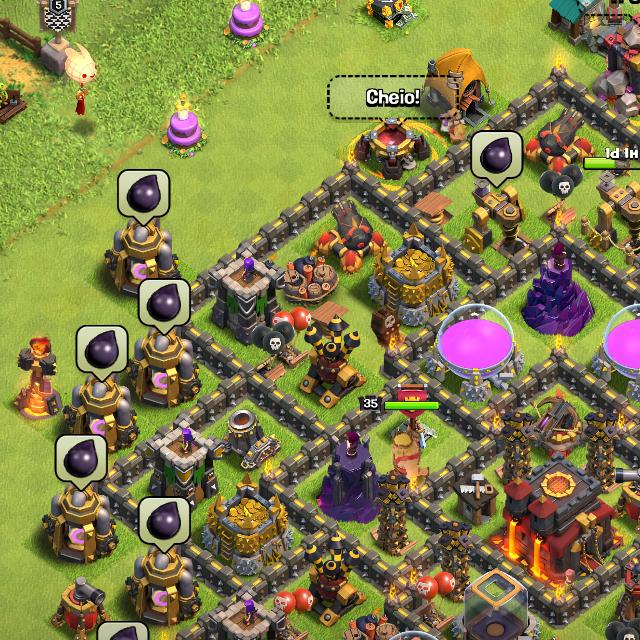ElixirNegro: (116, 168, 170, 226), (55, 433, 107, 492), (138, 279, 190, 336), (140, 496, 191, 554), (76, 324, 126, 381), (472, 131, 522, 187), (99, 621, 147, 640)
